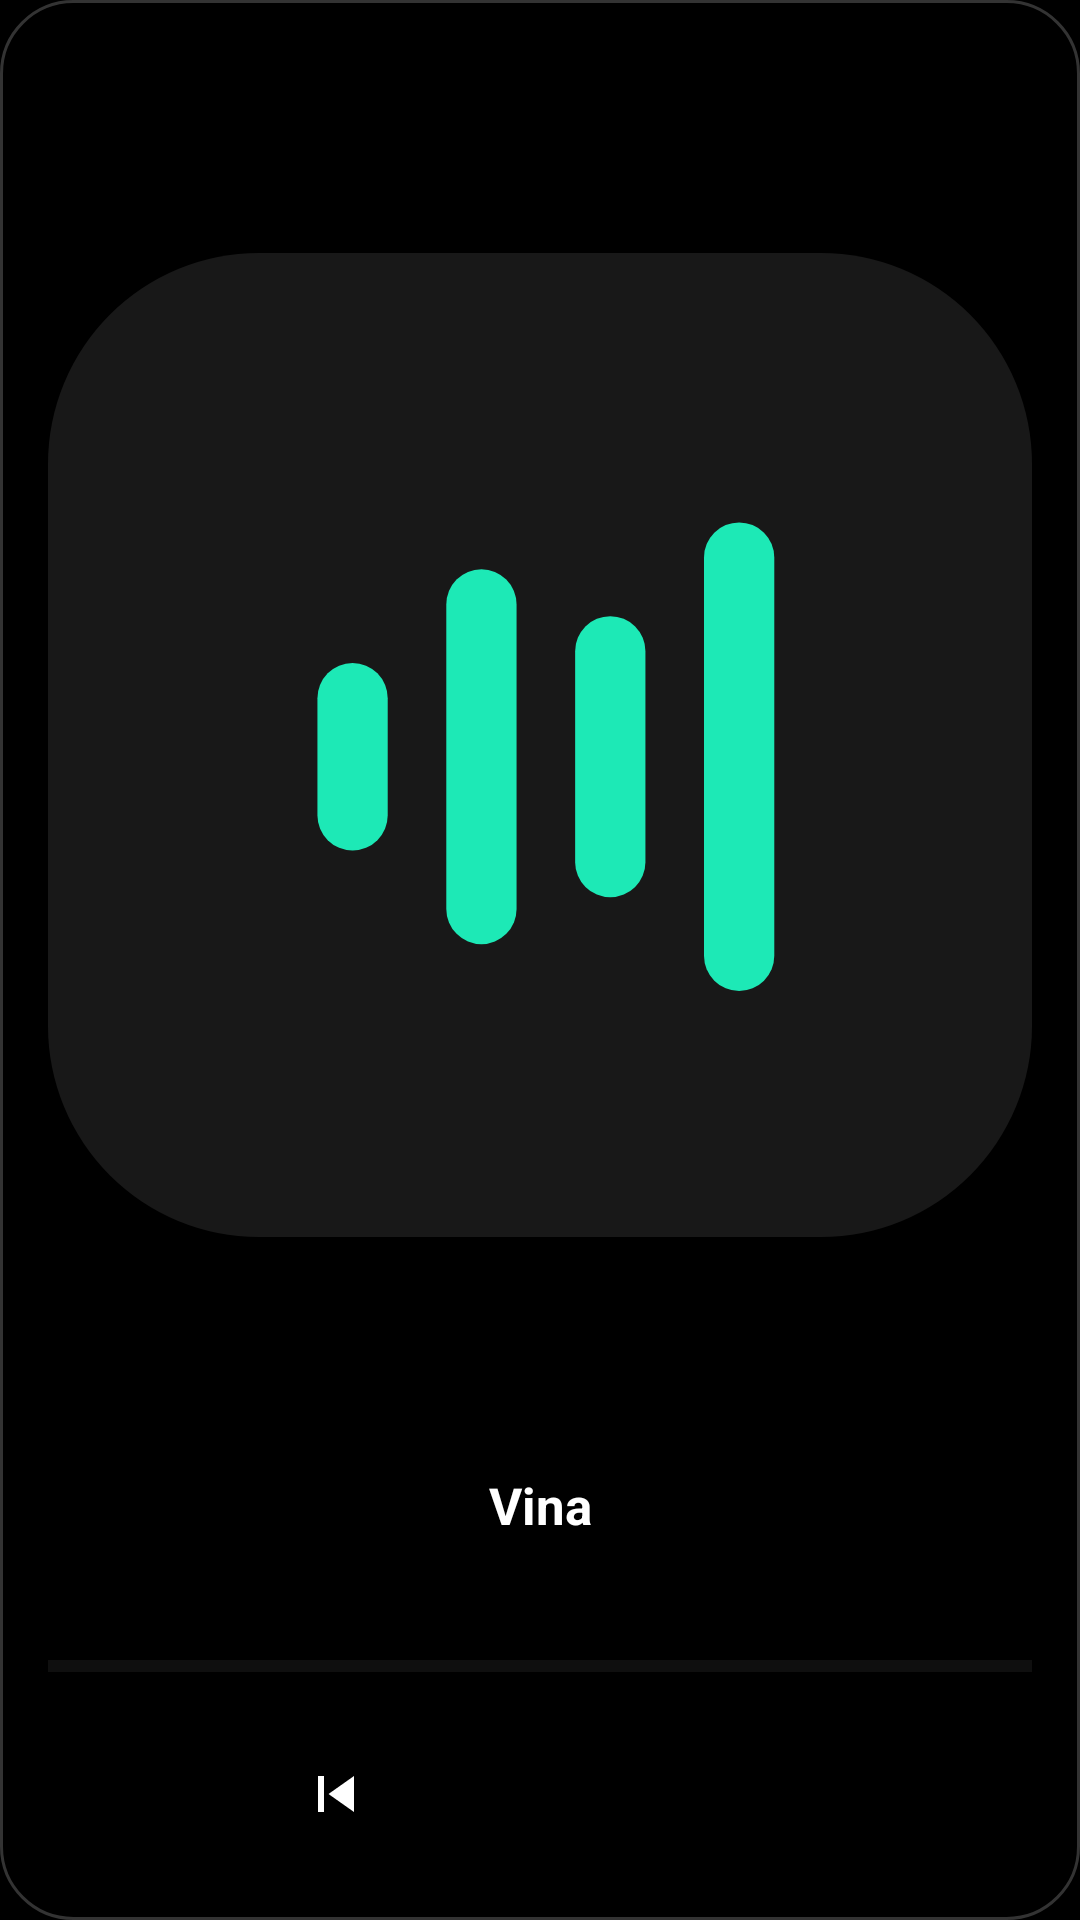

Named icons in this screenshot (1080 × 1920) and their bounding boxes, {"left": x1, "top": y1, "right": x2, "bottom": y2}:
Previous: {"left": 318, "top": 1776, "right": 354, "bottom": 1812}
